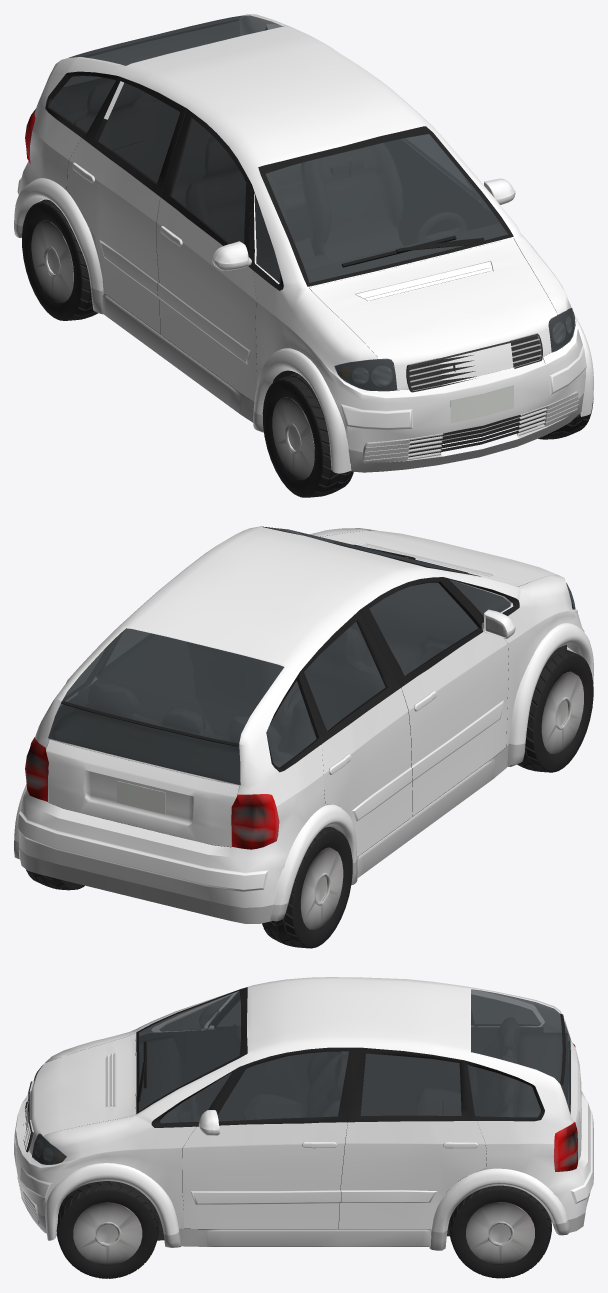
3 renders of one model, top to bottom at view 1: azimuth 30°, elevation 25°; view 2: azimuth 150°, elevation 25°; view 3: azimuth 270°, elevation 25°, orthographic. The views are drawn at different scales.
Visible parts, largest first — view 1: body, glass, wheel_FL, wheel_RL; view 2: body, glass, wheel_FL, wheel_RL; view 3: body, glass, wheel_FR, wheel_RR.
Part boxes in pixels (x1,y1,x2,y2): body: [14, 14, 593, 473]; glass: [50, 15, 575, 391]; wheel_FL: [262, 373, 353, 497]; wheel_RL: [22, 199, 97, 320]; body: [14, 526, 593, 923]; glass: [48, 527, 575, 785]; wheel_FL: [517, 647, 593, 772]; wheel_RL: [262, 827, 352, 948]; body: [14, 977, 593, 1250]; glass: [32, 989, 570, 1164]; wheel_FR: [56, 1181, 158, 1278]; wheel_RR: [449, 1185, 551, 1278].
Bounding box in the file's own units: 1.79 × 1.55 × 3.7.
